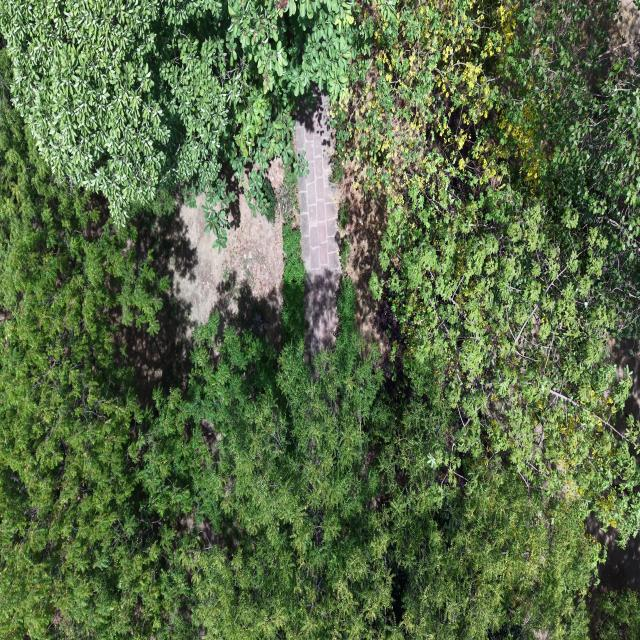DRY_AREA: (128, 159, 284, 402), (128, 159, 284, 401), (124, 181, 283, 405), (128, 190, 282, 389), (296, 97, 400, 355), (296, 95, 393, 358), (296, 95, 385, 355), (162, 194, 282, 339), (173, 188, 283, 342), (173, 190, 283, 342), (174, 194, 282, 335), (340, 163, 404, 379), (341, 166, 402, 378), (341, 165, 402, 376), (340, 163, 401, 358), (341, 164, 398, 359), (117, 291, 192, 406), (296, 95, 340, 275), (586, 517, 639, 592), (609, 339, 639, 431), (610, 340, 639, 432), (609, 0, 639, 62)
PATHWAYS: (296, 96, 340, 354)
VEGETATION_TREE: (0, 0, 639, 639), (0, 110, 599, 638), (145, 280, 598, 639), (341, 0, 639, 535), (0, 102, 165, 638), (0, 0, 353, 245), (146, 317, 393, 638), (280, 167, 305, 343), (592, 590, 639, 639)
